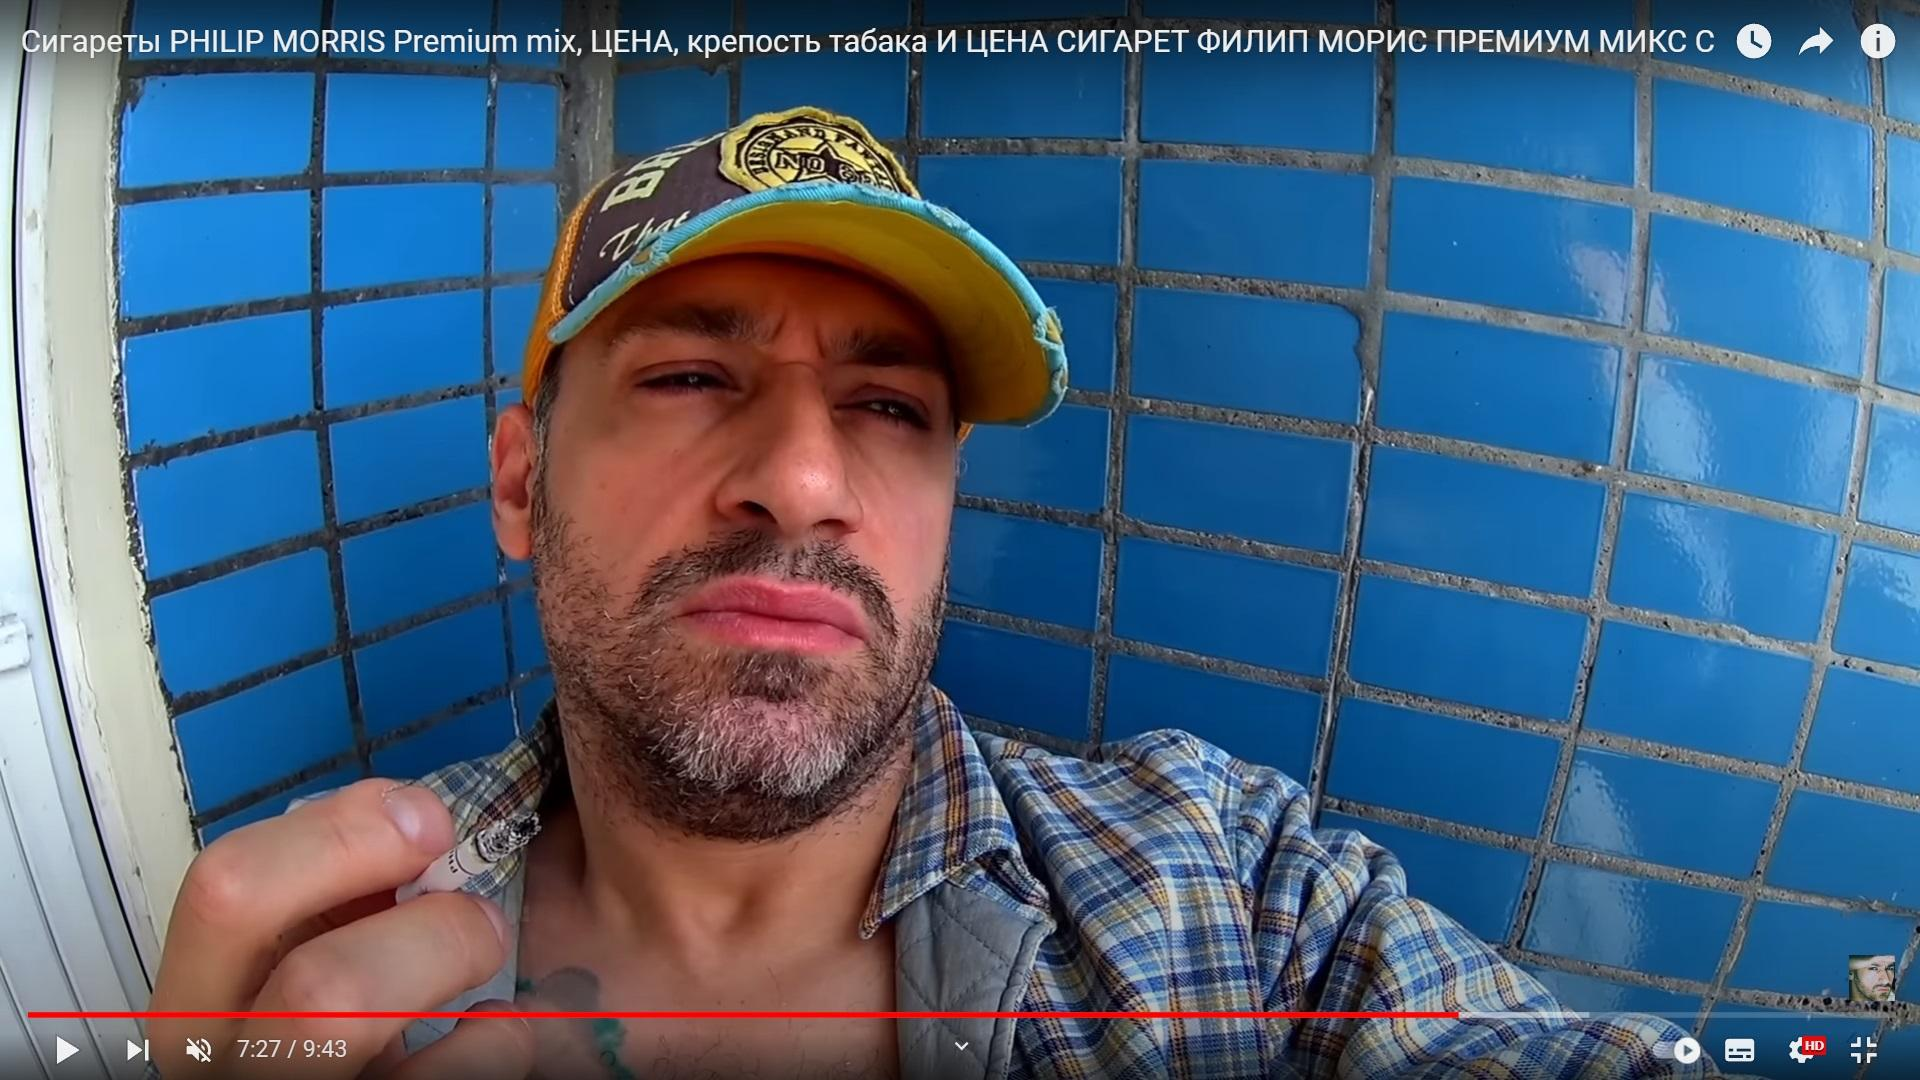cigarette: (396, 811, 541, 905)
